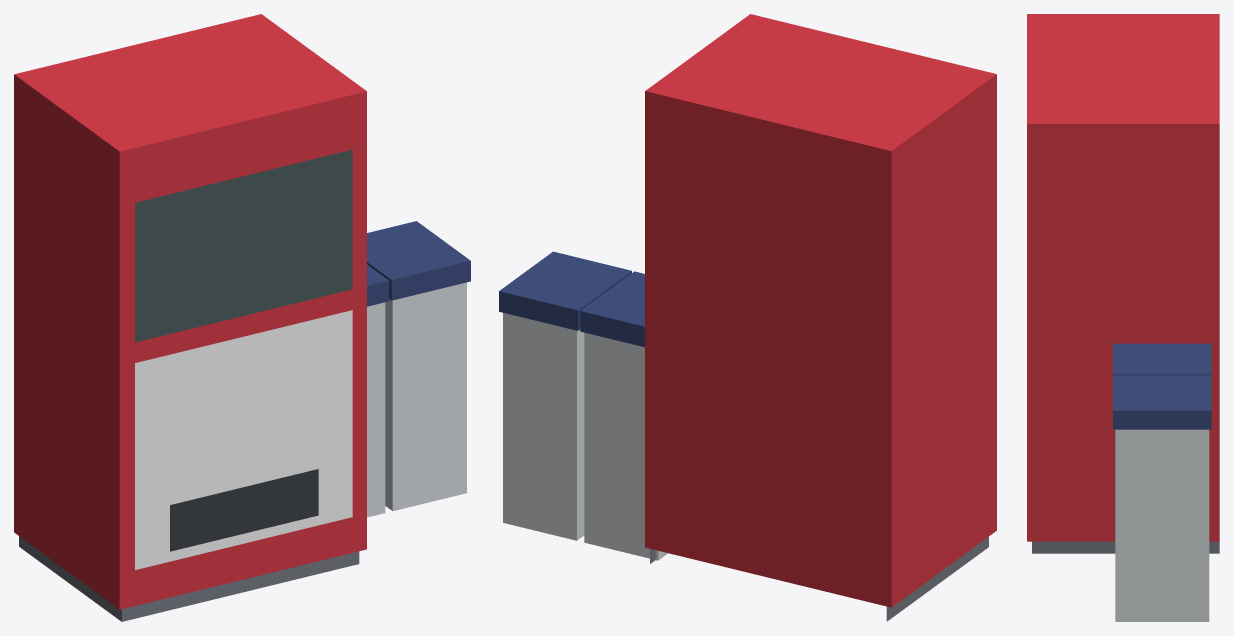
File: entrance.fbx
3 renders of one model, left to right at view 1: azimuth 30°, elevation 25°; view 2: azimuth 150°, elevation 25°; view 3: azimuth 270°, elevation 25°, orthographic. The views are drawn at different scales.
Parts seen in each view (by area): view 1: a2003/0/entrance; view 2: a2003/0/entrance; view 3: a2003/0/entrance.
Boxes of the visible parts, x1,y1,x2,y2 form: a2003/0/entrance: (14, 14, 470, 621); a2003/0/entrance: (499, 14, 996, 621); a2003/0/entrance: (1027, 14, 1219, 621).
Bounding box in the file's own units: 1.61 × 1.83 × 0.746.
